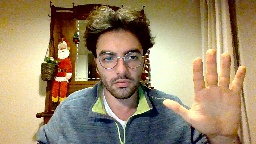Mano_aperta: (156, 47, 246, 139)
